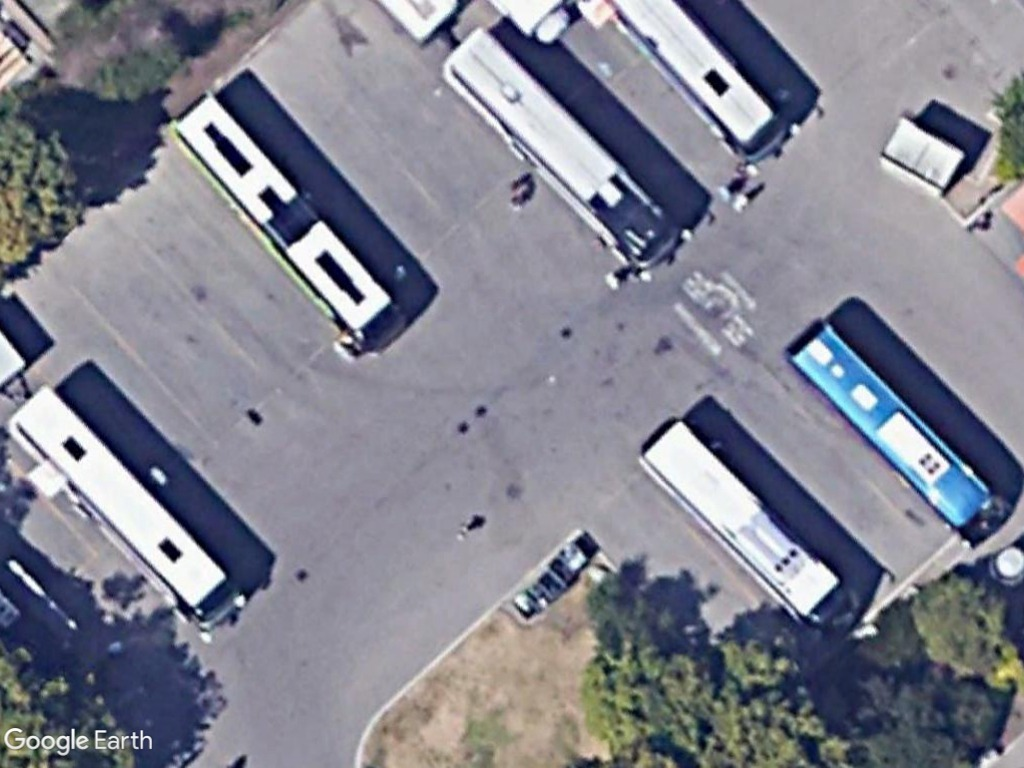bus: (440, 23, 683, 275), (7, 382, 247, 632), (169, 93, 402, 346), (784, 323, 1008, 547), (634, 415, 847, 628)
